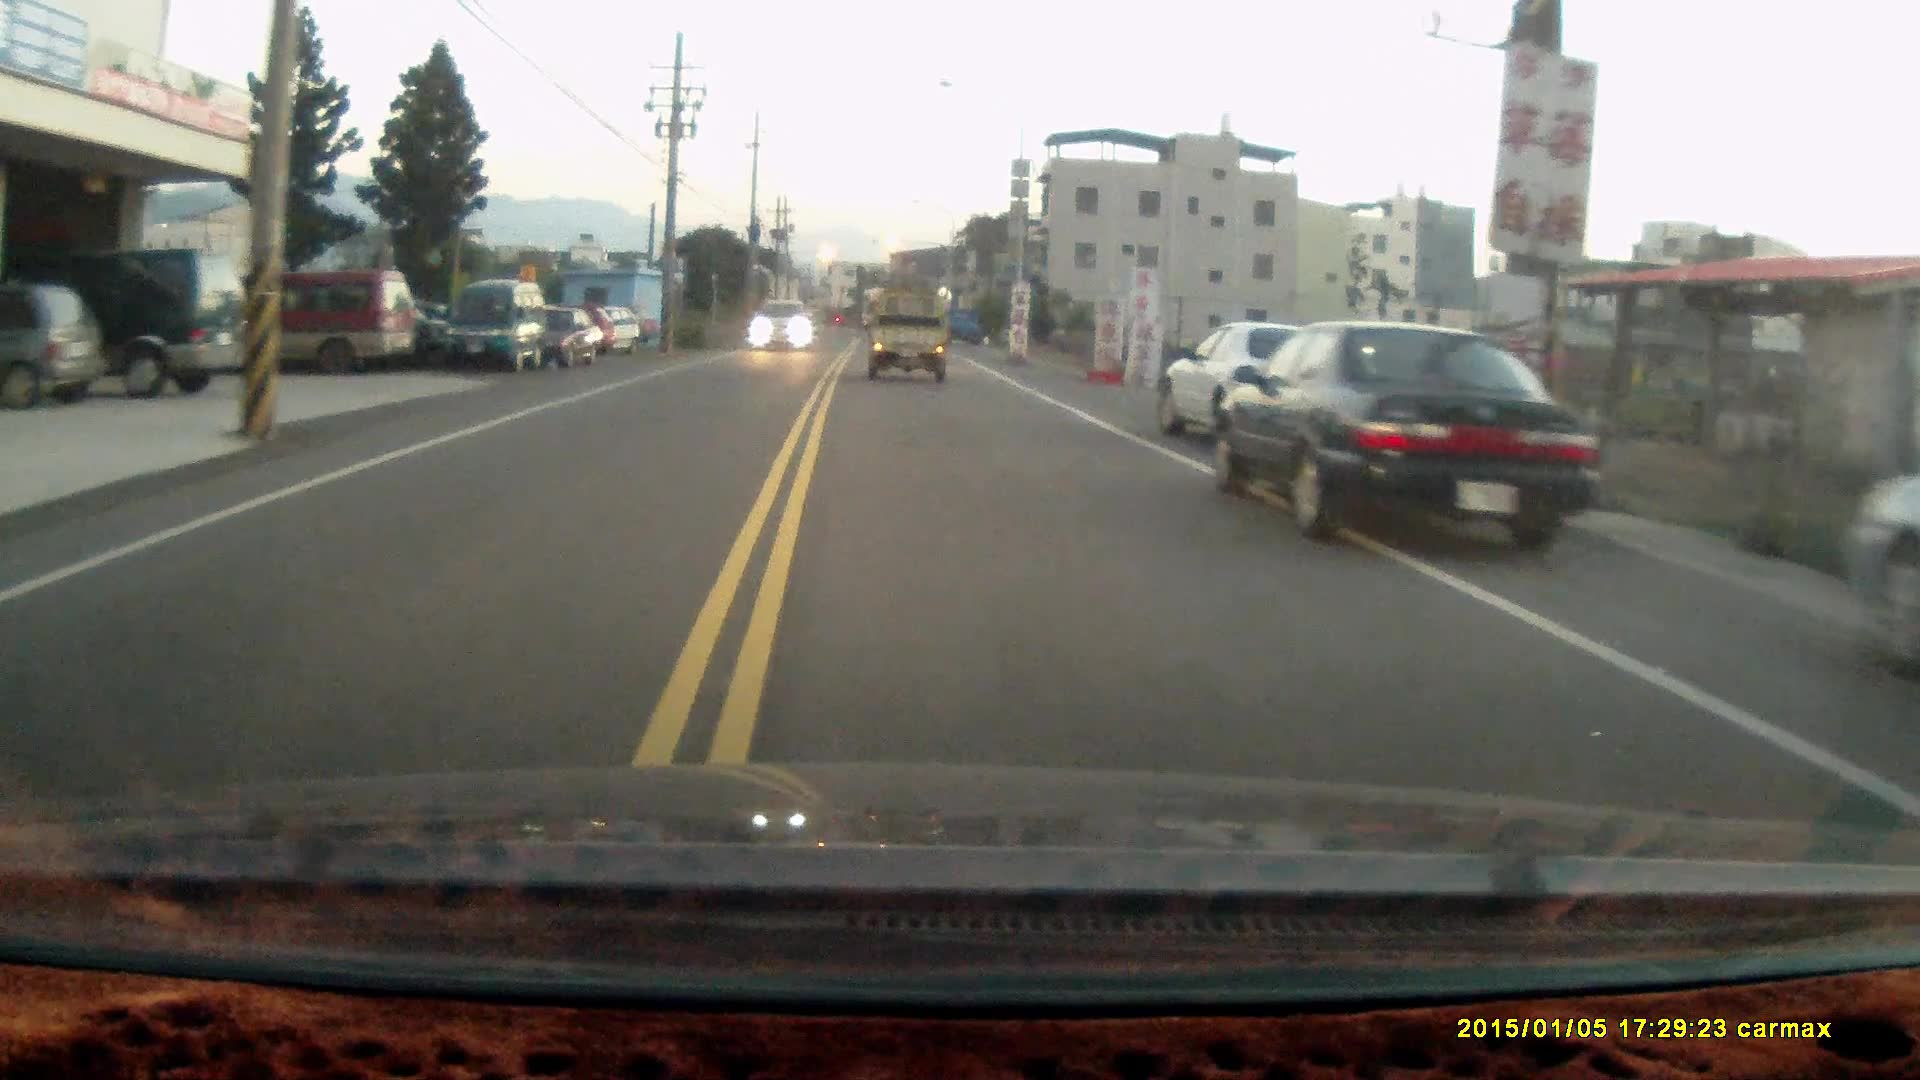vehicle: (1207, 316, 1596, 541), (8, 239, 255, 398), (223, 264, 419, 373), (1164, 318, 1317, 450), (1851, 465, 1920, 680), (1, 280, 103, 411), (439, 276, 549, 371), (866, 282, 947, 382), (514, 305, 607, 369), (749, 297, 818, 349)
